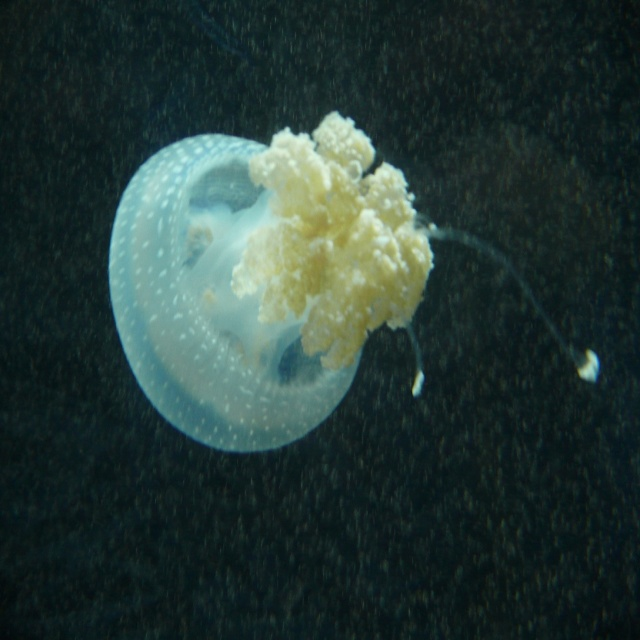Jellyfish: (109, 109, 601, 452)
